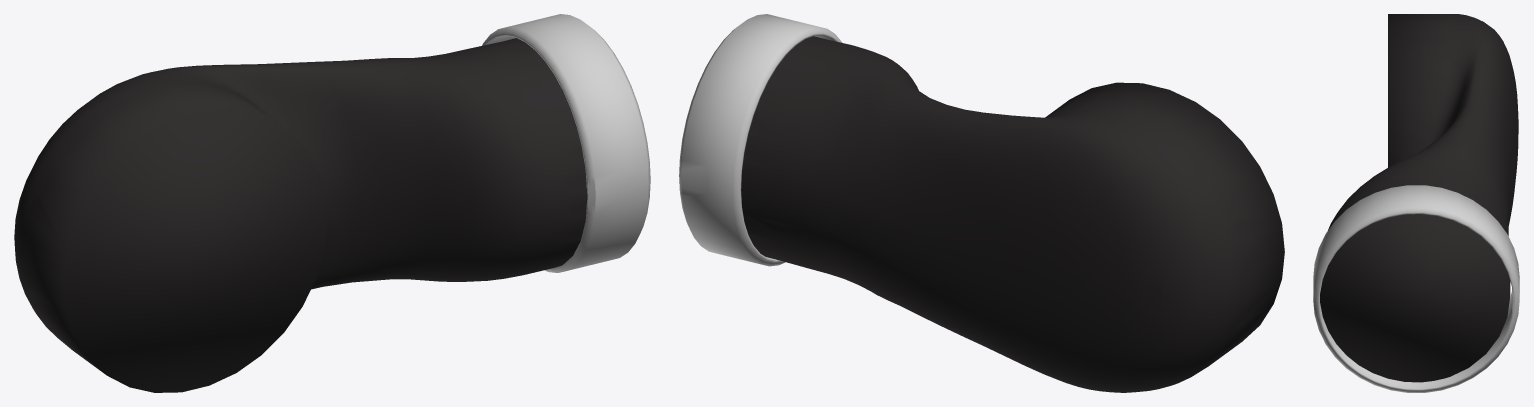
The model's file is mico_link_3.dae.
3 renders of one model, left to right at view 1: azimuth 30°, elevation 25°; view 2: azimuth 150°, elevation 25°; view 3: azimuth 270°, elevation 25°, orthographic. The views are drawn at different scales.
Parts seen in each view (by area): view 1: Mico_very_simplified_-_Link_-_Forearm_Mico-1, Wrist_1_Ring_Link; view 2: Mico_very_simplified_-_Link_-_Forearm_Mico-1, Wrist_1_Ring_Link; view 3: Mico_very_simplified_-_Link_-_Forearm_Mico-1, Wrist_1_Ring_Link.
Boxes of the visible parts, x1,y1,x2,y2 form: Mico_very_simplified_-_Link_-_Forearm_Mico-1: [14, 38, 587, 392]; Wrist_1_Ring_Link: [482, 14, 650, 272]; Mico_very_simplified_-_Link_-_Forearm_Mico-1: [741, 36, 1284, 392]; Wrist_1_Ring_Link: [679, 14, 842, 266]; Mico_very_simplified_-_Link_-_Forearm_Mico-1: [1320, 14, 1518, 382]; Wrist_1_Ring_Link: [1313, 185, 1519, 392].
Bounding box in the file's own units: 0.1698 × 0.0825 × 0.0681.
1 material, 1 textured.
